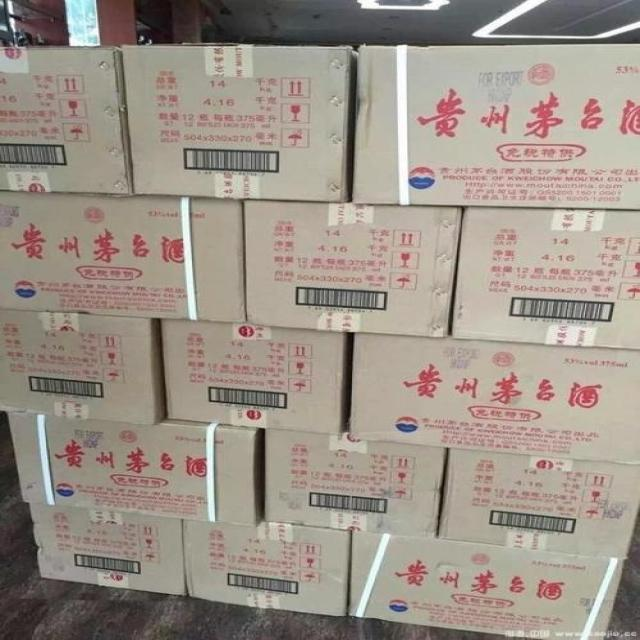box: (355, 43, 639, 212), (347, 334, 639, 466), (122, 46, 356, 204), (0, 192, 246, 323), (241, 201, 462, 339), (4, 413, 262, 527), (350, 533, 625, 639), (448, 209, 639, 350), (160, 318, 352, 438), (437, 451, 639, 561), (260, 432, 451, 540), (0, 45, 133, 195), (0, 310, 167, 425), (184, 521, 353, 617), (27, 500, 188, 595)
